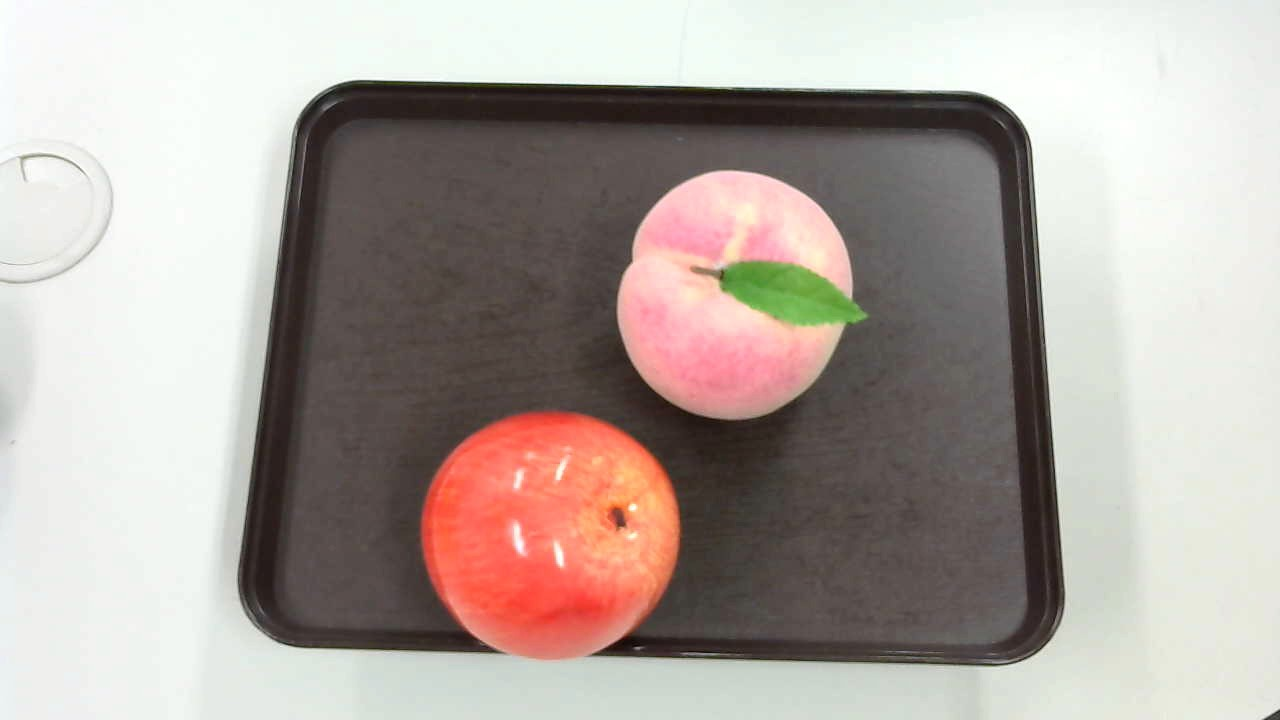peach: (616, 159, 865, 439)
red apple: (414, 405, 680, 666)
